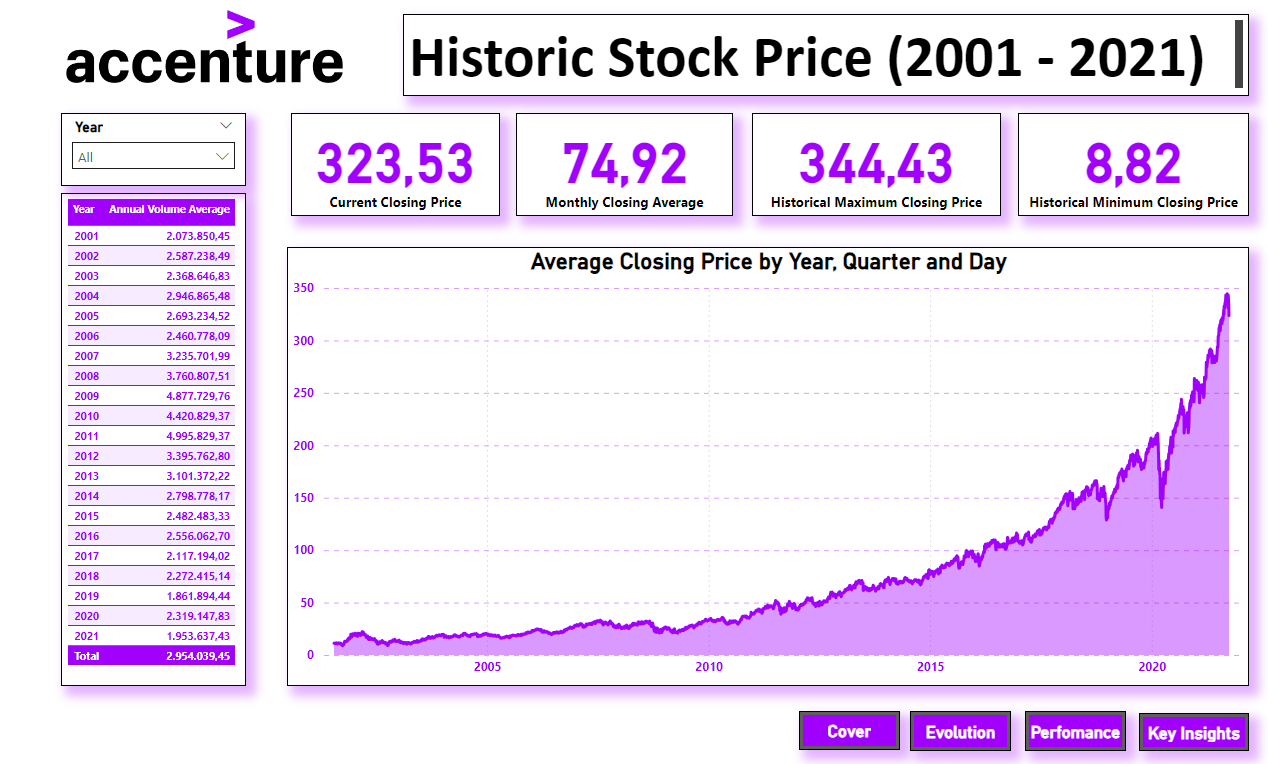

Layout of this report page (visuals, bound fields, positions):
{"tool":"powerbi","page":{"name":"Evolution","canvas":[1280,770],"ordinal":1},"visuals":[{"type":"card","fields":{"Values":["stock_history.Precio_Cierre_Actual"]},"box":[298.6,115.7,209.1,103.1],"z":0},{"type":"card","fields":{"Values":["stock_history.Promedio_Cierre_Mensual"]},"box":[524.3,115.7,216.9,103.1],"z":1000},{"type":"card","fields":{"Values":["stock_history.Max_Precio_Cierre_Historico"]},"box":[759.6,115.7,249,103.1],"z":2000},{"type":"card","fields":{"Values":["stock_history.Min_Precio_Cierre_Historico"]},"box":[1026.1,115.7,230.5,103.1],"z":3000},{"type":"tableEx","fields":{"Values":["DateTable.Year","stock_history.Promedio_Volumen_Anual"]},"box":[69.1,195.5,184.8,493.1],"z":4000},{"type":"slicer","fields":{"Values":["DateTable.Year"]},"box":[69.1,115.7,184.8,72.9],"z":5000},{"type":"lineChart","title":"Average Closing Price by Year, Quarter and Day ","fields":{"Category":["DateTable.Date.Variation.Date Hierarchy.Year","DateTable.Date.Variation.Date Hierarchy.Quarter","DateTable.Date.Variation.Date Hierarchy.Month","DateTable.Date.Variation.Date Hierarchy.Day"],"Y":["Avg(stock_history.Close)"]},"box":[294.7,250,961.9,438.7],"z":6000},{"type":"image","box":[31.5,7.6,360.9,83.7],"z":7000},{"type":"textbox","box":[411.4,16.5,845.2,82.7],"z":8000},{"type":"actionButton","title":"Cover","box":[806.7,714.4,101.1,38.9],"z":9000},{"type":"actionButton","title":"Cover","box":[917.5,714.4,101,39.2],"z":10000},{"type":"actionButton","title":"Cover","box":[1033,714.4,101,39.2],"z":11000},{"type":"actionButton","title":"Key Insights","box":[1147,715.7,109.6,38.6],"z":12000}]}

Visuals, with their boxes in screenshot pixels (x1, y1, x2, y2), scaled from the page's 1280x770 canvas onto the 1268x764 screenshot:
card - stock_history.Precio_Cierre_Actual: (296, 115, 503, 217)
card - stock_history.Promedio_Cierre_Mensual: (519, 115, 734, 217)
card - stock_history.Max_Precio_Cierre_Historico: (752, 115, 999, 217)
card - stock_history.Min_Precio_Cierre_Historico: (1016, 115, 1245, 217)
tableEx - DateTable.Year x stock_history.Promedio_Volumen_Anual: (68, 194, 252, 683)
slicer - DateTable.Year: (68, 115, 252, 187)
"Average Closing Price by Year, Quarter and Day " lineChart: (292, 248, 1245, 683)
image: (31, 8, 389, 91)
textbox: (408, 16, 1245, 98)
"Cover" actionButton: (799, 709, 899, 747)
"Cover" actionButton: (909, 709, 1009, 748)
"Cover" actionButton: (1023, 709, 1123, 748)
"Key Insights" actionButton: (1136, 710, 1245, 748)
